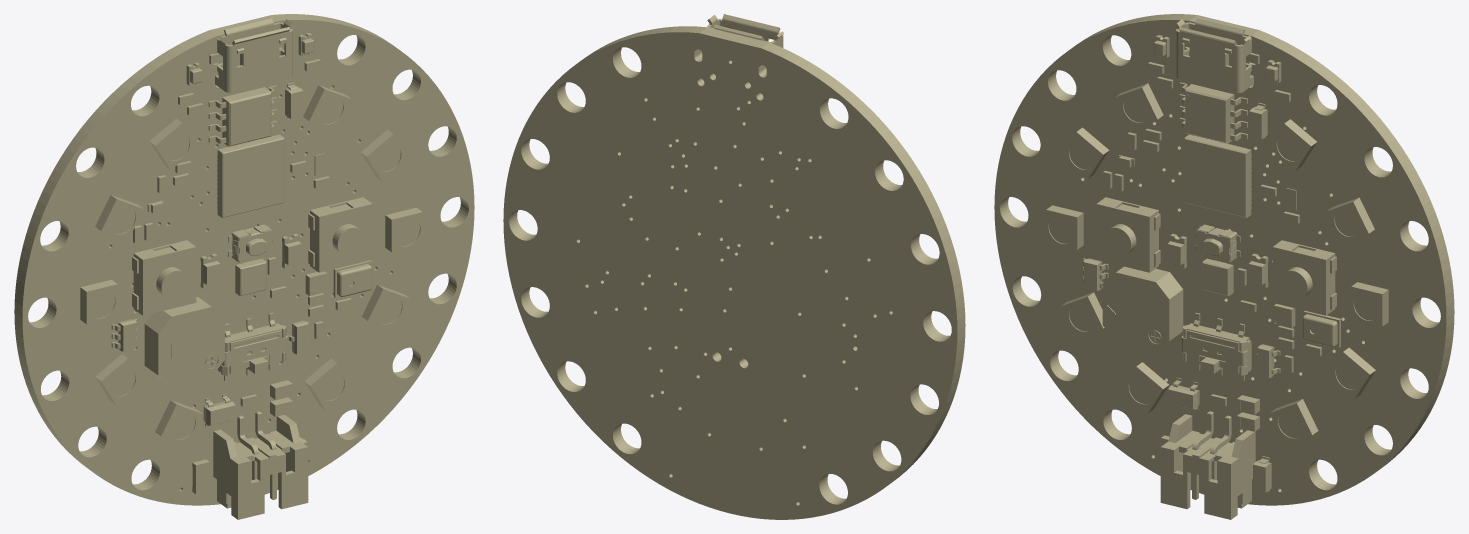
Rendered from Adafruit-CircuitPlayground-Express.glb.
The picture shows the model from 3 angles, left to right: view 1: azimuth 30°, elevation 25°; view 2: azimuth 150°, elevation 25°; view 3: azimuth 330°, elevation 25°; orthographic projection.
Parts seen in each view (by area): view 1: <STL_BINARY>; view 2: <STL_BINARY>; view 3: <STL_BINARY>.
Part boxes in pixels (x1=…): <STL_BINARY>: x1=14, y1=14, x2=474, y2=519; <STL_BINARY>: x1=503, y1=14, x2=965, y2=519; <STL_BINARY>: x1=994, y1=14, x2=1454, y2=519.
Bounding box in the file's own units: 50.81 × 51.05 × 6.37.
